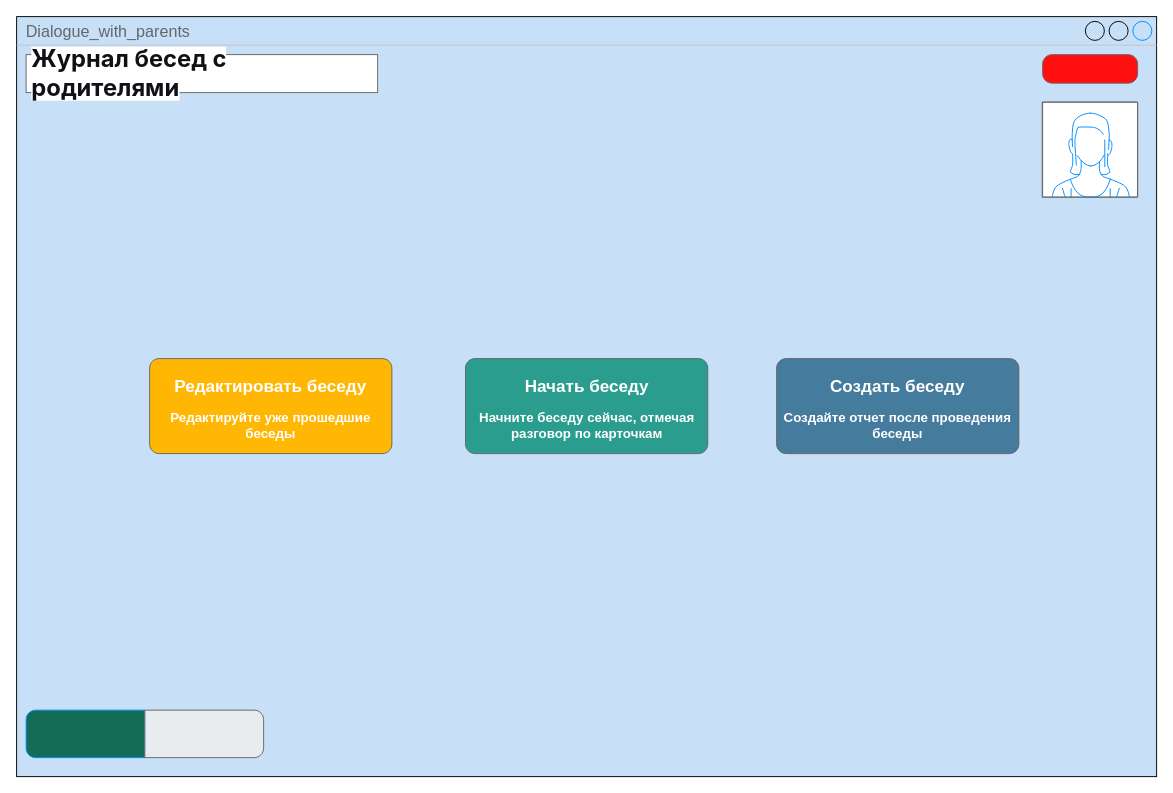
This 1173x793 diagram has some shape labels left out. Here are the shapes that lost their labels. From the top down, the centre of each, then its label:
At (x=1090, y=68): "Выйти".
At (x=1090, y=149): "Иванова И.И.".
At (x=85, y=733): "История".
At (x=204, y=733): "Статистика".
